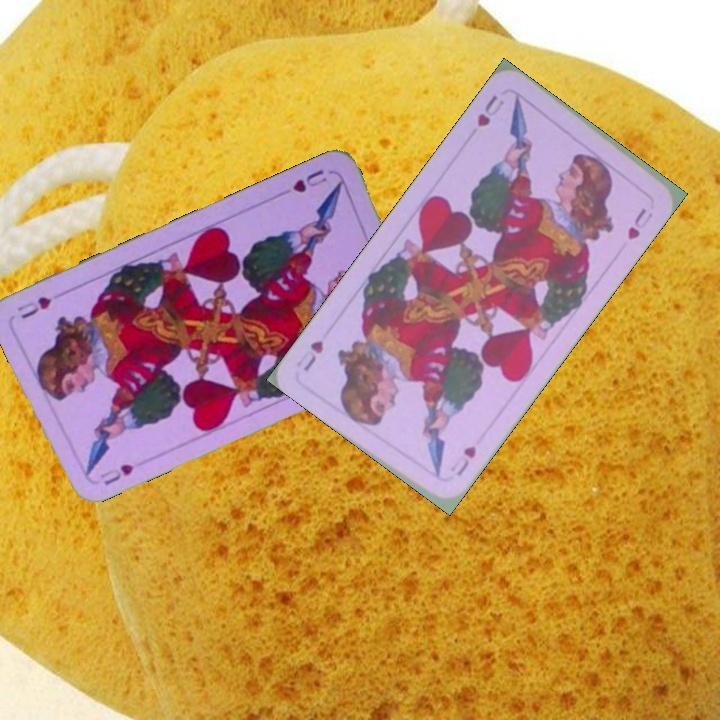HU: (473, 91, 508, 130), (288, 165, 330, 196), (446, 442, 479, 479), (96, 460, 136, 488)
